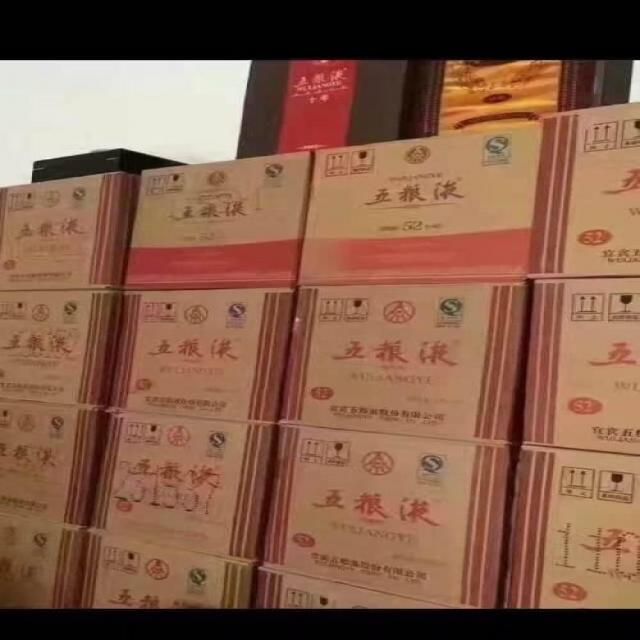box: (271, 416, 514, 606), (276, 273, 526, 447), (293, 111, 542, 281), (82, 405, 282, 563), (118, 147, 320, 296), (103, 282, 294, 433), (503, 443, 640, 640), (517, 277, 640, 457), (532, 100, 640, 276), (0, 176, 144, 292), (0, 288, 129, 412), (0, 393, 112, 526), (73, 531, 263, 609)
